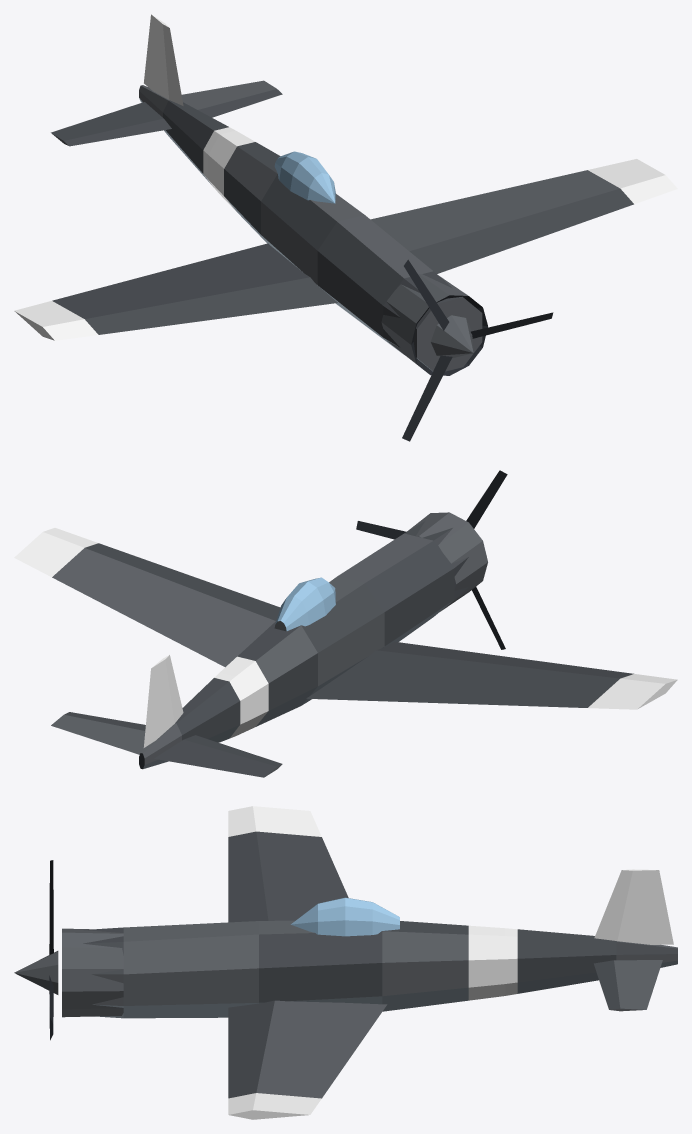
3 renders of one model, top to bottom at view 1: azimuth 30°, elevation 25°; view 2: azimuth 150°, elevation 25°; view 3: azimuth 270°, elevation 25°, orthographic.
Visible parts, largest first — view 1: body, prop; view 2: body, prop; view 3: body, prop.
Boxes of the visible parts, x1=… form: body: x1=14, y1=14, x2=677, y2=375; prop: x1=402, y1=259, x2=553, y2=441; body: x1=14, y1=512, x2=677, y2=777; prop: x1=356, y1=470, x2=507, y2=649; body: x1=62, y1=806, x2=677, y2=1119; prop: x1=14, y1=860, x2=58, y2=1040.
Size of the model in its own units: 10.51 by 3.12 by 9.7.
